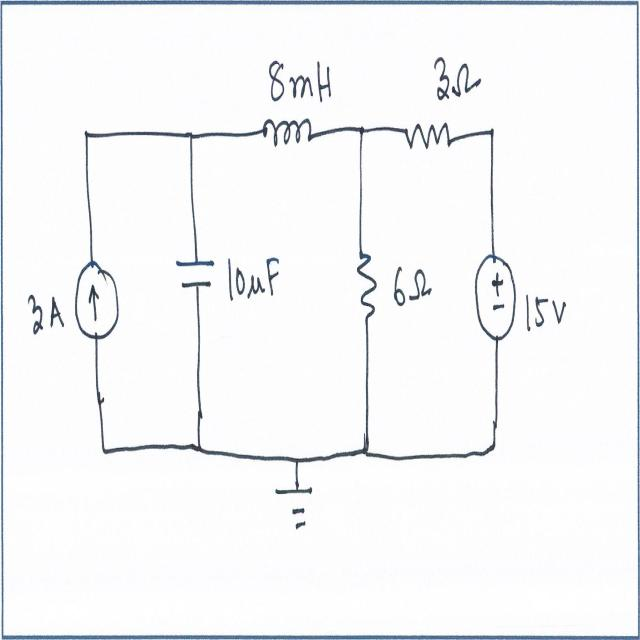capacitor: (172, 250, 218, 297)
current_source: (70, 250, 121, 351)
ground: (271, 481, 320, 537)
inductor: (260, 113, 317, 164)
resistor: (352, 238, 380, 338), (398, 114, 458, 160)
voltage_source: (470, 244, 521, 349)
